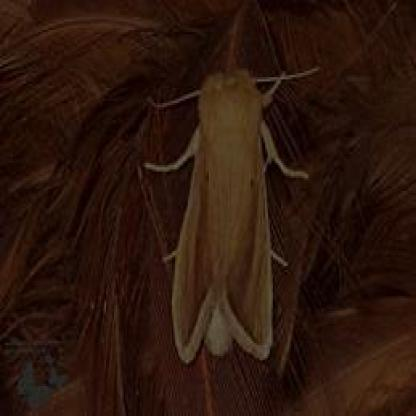stem-borer: (166, 63, 278, 370)
